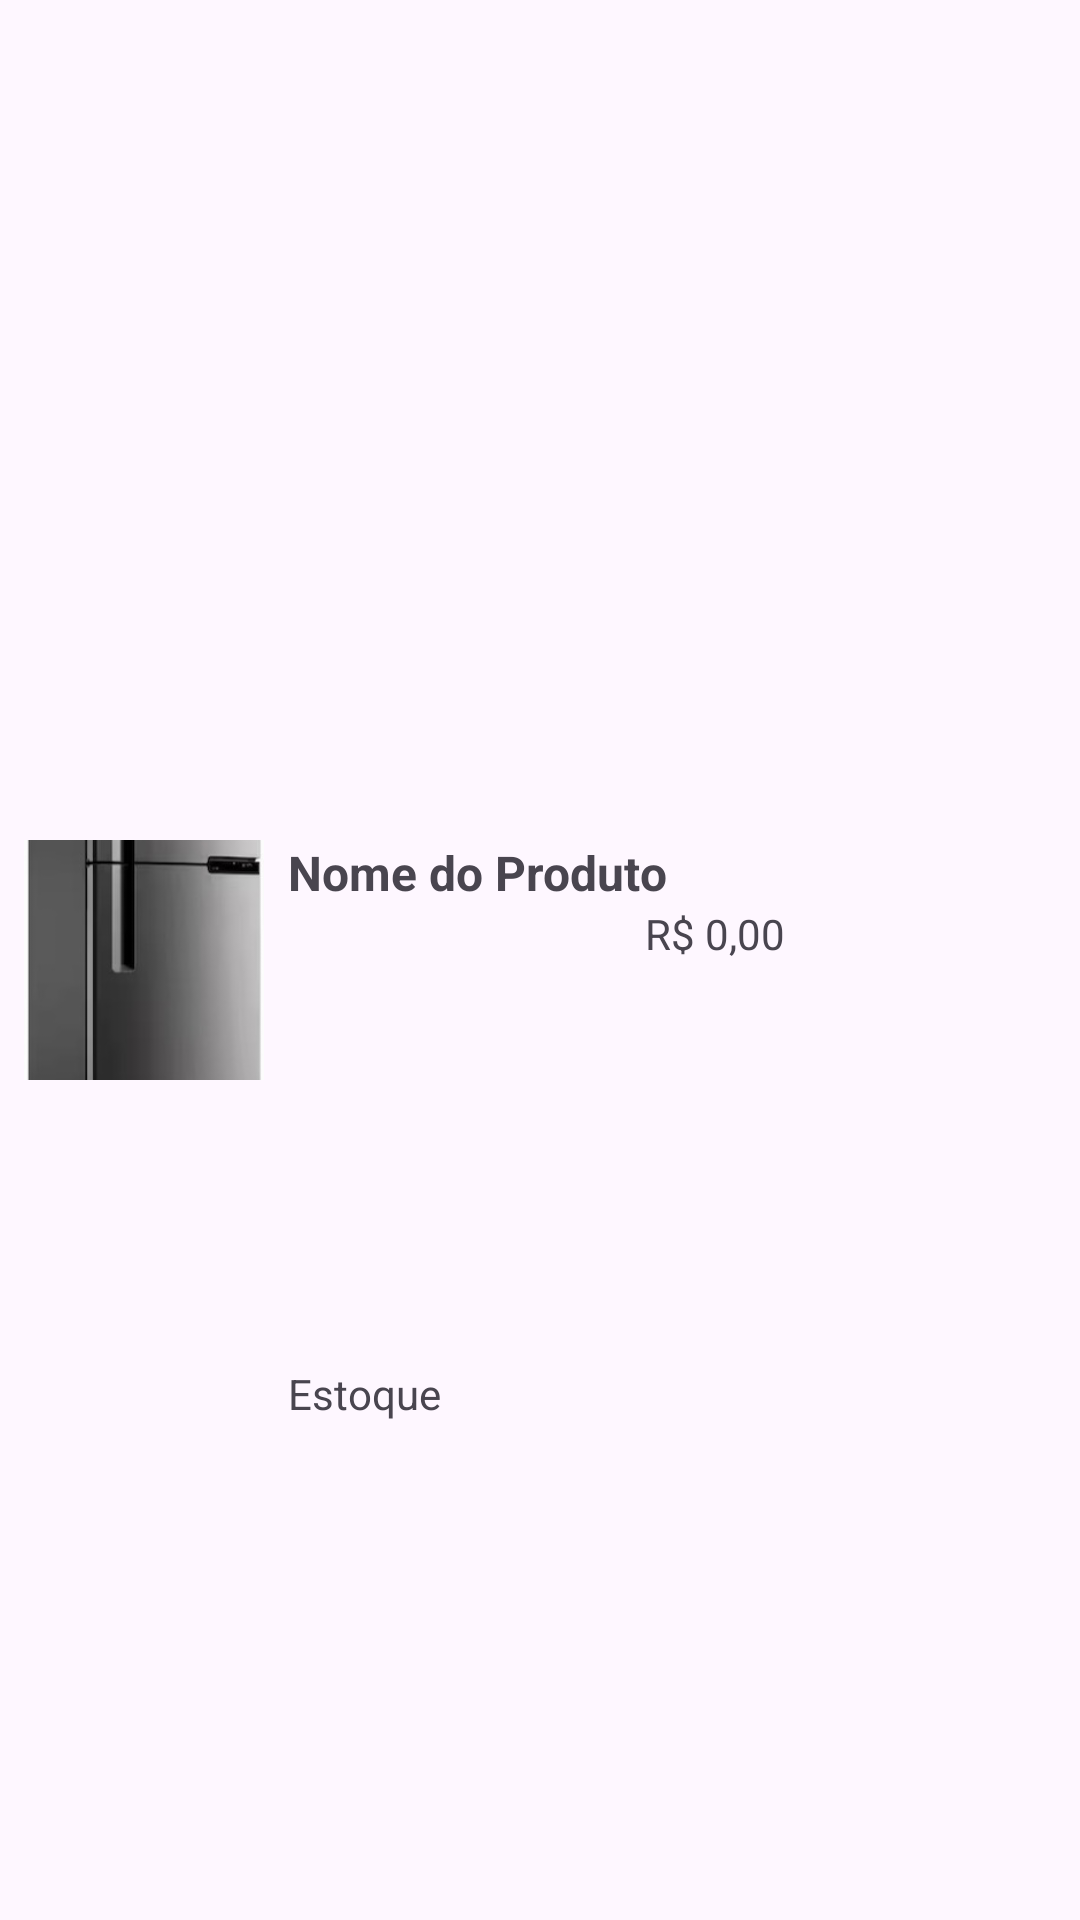

Screen size 1080 × 1920. Icon name, then its center in pixels as point (x, y):
geladeira: point (144, 960)
